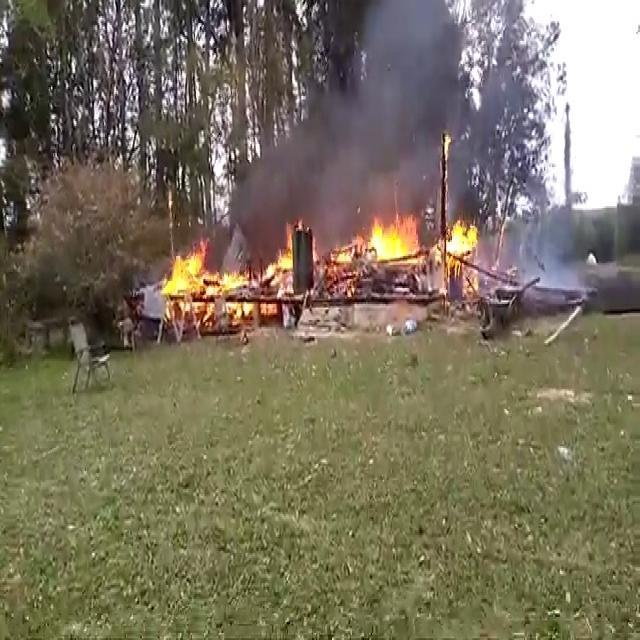Fire: (164, 247, 251, 320), (369, 208, 419, 258), (444, 215, 475, 270), (267, 224, 295, 274), (330, 233, 364, 267)
Smoke: (224, 0, 532, 208), (496, 179, 584, 288)
